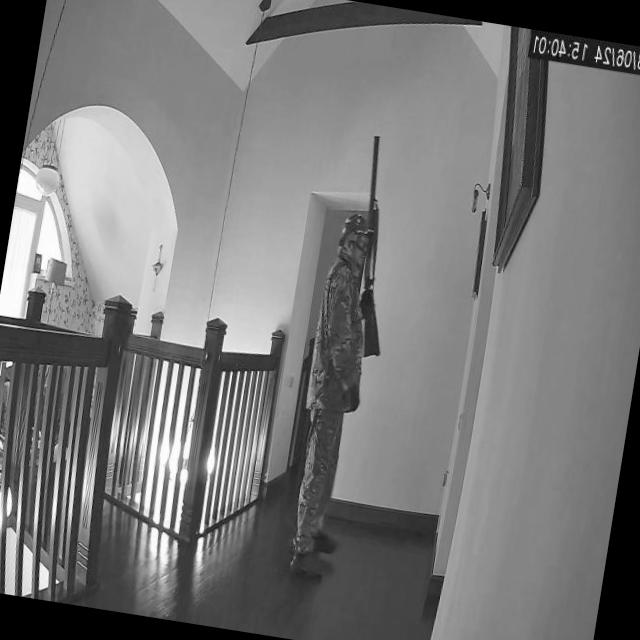gun: (338, 132, 416, 362)
person with a gun: (276, 127, 414, 586)
